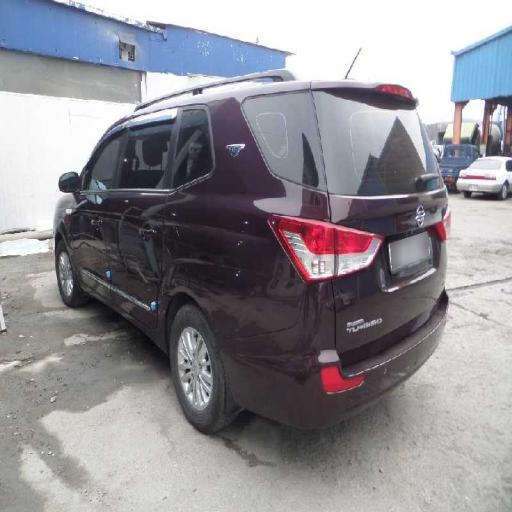dent: (84, 188, 223, 333)
scratch: (335, 352, 423, 392)
